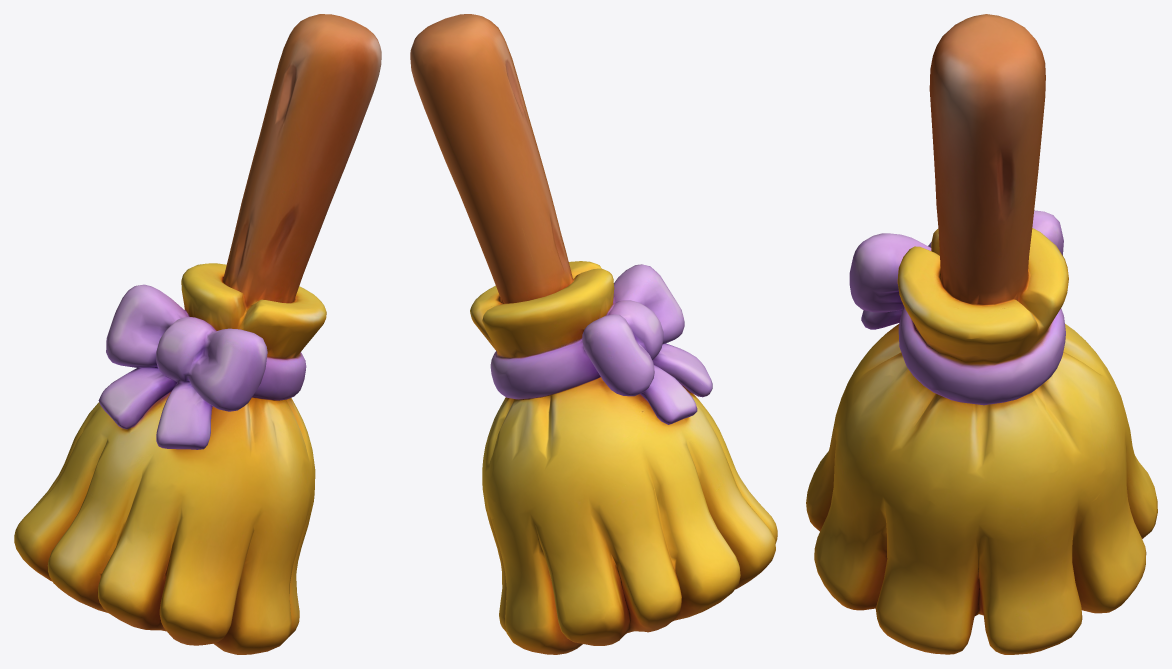
The model's file is cs-witch-broom.glb.
3 views of the same model, side by side, from view 1: azimuth 30°, elevation 25°; view 2: azimuth 150°, elevation 25°; view 3: azimuth 270°, elevation 25° (orthographic). The views are drawn at different scales.
Visible parts, largest first — view 1: tripo_node_227234ca-c8ab-4340-97e0-70c40a91bae0; view 2: tripo_node_227234ca-c8ab-4340-97e0-70c40a91bae0; view 3: tripo_node_227234ca-c8ab-4340-97e0-70c40a91bae0.
Part boxes in pixels (left/top/right/bottom): tripo_node_227234ca-c8ab-4340-97e0-70c40a91bae0: left=14, top=14, right=381, bottom=654; tripo_node_227234ca-c8ab-4340-97e0-70c40a91bae0: left=410, top=14, right=777, bottom=654; tripo_node_227234ca-c8ab-4340-97e0-70c40a91bae0: left=806, top=14, right=1157, bottom=654.
Size of the model in its own units: 0.6046 by 1 by 0.4711.
Materials: 1 (1 with a texture image).
